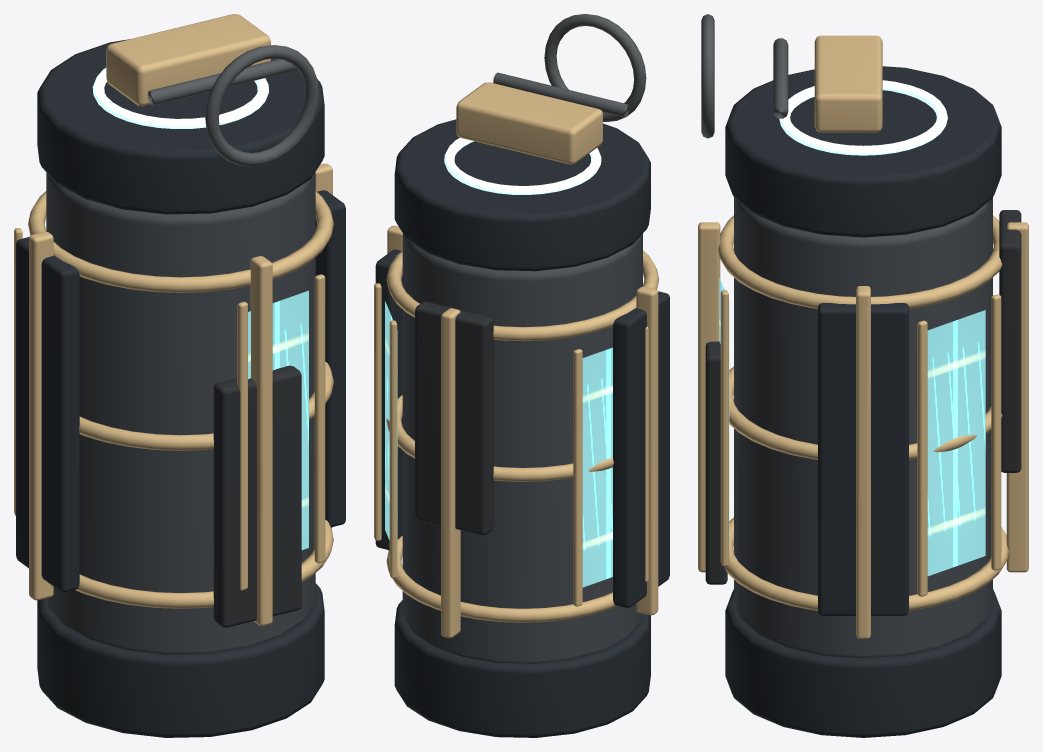
Rendered from hp_ability_protocol_breach_charge_v1.glb.
3 renders of one model, left to right at view 1: azimuth 30°, elevation 25°; view 2: azimuth 150°, elevation 25°; view 3: azimuth 270°, elevation 25°, orthographic. The views are drawn at different scales.
Visible parts, largest first — view 1: protocol_charge_graphite_core, protocol_charge_top_cap, protocol_charge_bottom_cap, protocol_charge_dark_side_plate_left, protocol_charge_rubber_grip_band_front, protocol_charge_top_arming_block, protocol_charge_dark_side_plate_right, protocol_charge_vertical_brass_clamp_3, protocol_charge_brass_lock_ring_2, protocol_charge_vertical_brass_clamp_2, protocol_charge_pull_ring, protocol_charge_image2_energy_window_2 (+7 smaller); view 2: protocol_charge_graphite_core, protocol_charge_top_cap, protocol_charge_bottom_cap, protocol_charge_rubber_grip_band_back, protocol_charge_dark_side_plate_left, protocol_charge_top_arming_block, protocol_charge_image2_energy_window_1, protocol_charge_vertical_brass_clamp_1, protocol_charge_vertical_brass_clamp_2, protocol_charge_brass_lock_ring_2, protocol_charge_brass_lock_ring_0, protocol_charge_dark_side_plate_right (+9 smaller); view 3: protocol_charge_graphite_core, protocol_charge_top_cap, protocol_charge_dark_side_plate_right, protocol_charge_bottom_cap, protocol_charge_image2_energy_window_0, protocol_charge_top_arming_block, protocol_charge_rubber_grip_band_back, protocol_charge_vertical_brass_clamp_0, protocol_charge_brass_lock_ring_2, protocol_charge_vertical_brass_clamp_3, protocol_charge_vertical_brass_clamp_1, protocol_charge_rubber_grip_band_front (+8 smaller).
Part boxes in pixels (<box>): protocol_charge_graphite_core: <box>46,172,315,654</box>; protocol_charge_top_cap: <box>37,39,324,214</box>; protocol_charge_bottom_cap: <box>37,583,324,737</box>; protocol_charge_dark_side_plate_left: <box>16,237,79,592</box>; protocol_charge_rubber_grip_band_front: <box>213,365,301,627</box>; protocol_charge_top_arming_block: <box>106,14,270,106</box>; protocol_charge_dark_side_plate_right: <box>315,190,345,527</box>; protocol_charge_vertical_brass_clamp_3: <box>250,256,272,625</box>; protocol_charge_brass_lock_ring_2: <box>28,191,333,292</box>; protocol_charge_vertical_brass_clamp_2: <box>29,231,53,600</box>; protocol_charge_pull_ring: <box>205,45,319,166</box>; protocol_charge_image2_energy_window_2: <box>248,290,308,549</box>; protocol_charge_graphite_core: <box>402,234,642,663</box>; protocol_charge_top_cap: <box>394,119,650,271</box>; protocol_charge_bottom_cap: <box>394,600,650,737</box>; protocol_charge_rubber_grip_band_back: <box>415,301,493,535</box>; protocol_charge_dark_side_plate_left: <box>613,291,669,607</box>; protocol_charge_top_arming_block: <box>456,82,602,164</box>; protocol_charge_image2_energy_window_1: <box>582,347,612,587</box>; protocol_charge_vertical_brass_clamp_1: <box>441,308,460,637</box>; protocol_charge_vertical_brass_clamp_2: <box>636,286,658,615</box>; protocol_charge_brass_lock_ring_2: <box>386,250,659,341</box>; protocol_charge_brass_lock_ring_0: <box>386,536,616,622</box>; protocol_charge_dark_side_plate_right: <box>375,249,402,549</box>; protocol_charge_graphite_core: <box>734,198,992,658</box>; protocol_charge_top_cap: <box>725,66,1001,237</box>; protocol_charge_dark_side_plate_right: <box>818,303,908,615</box>; protocol_charge_bottom_cap: <box>725,589,1001,737</box>; protocol_charge_image2_energy_window_0: <box>927,310,985,576</box>; protocol_charge_top_arming_block: <box>814,35,882,132</box>; protocol_charge_rubber_grip_band_back: <box>999,210,1021,472</box>; protocol_charge_vertical_brass_clamp_0: <box>856,286,870,638</box>; protocol_charge_brass_lock_ring_2: <box>718,215,1002,308</box>; protocol_charge_vertical_brass_clamp_3: <box>698,222,720,572</box>; protocol_charge_vertical_brass_clamp_1: <box>1006,222,1028,572</box>; protocol_charge_rubber_grip_band_front: <box>705,341,727,584</box>.
Bounding box in the file's own units: 0.268 × 0.5925 × 0.268.
7 materials, 1 textured.
